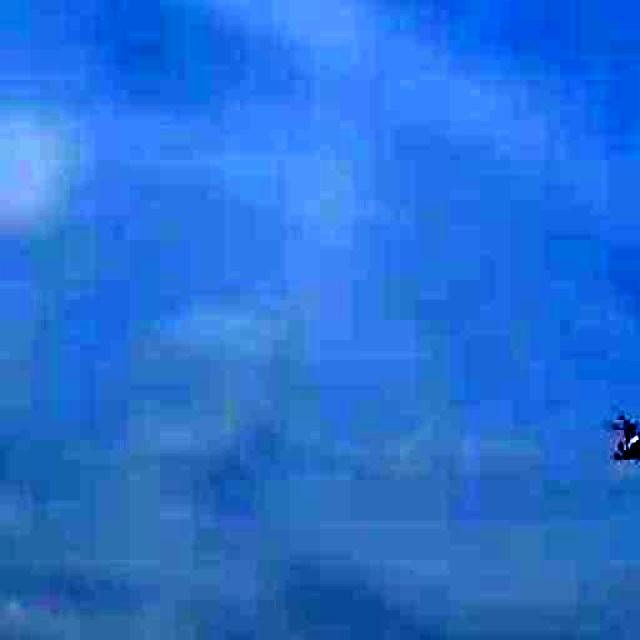drone: (589, 402, 640, 475)
